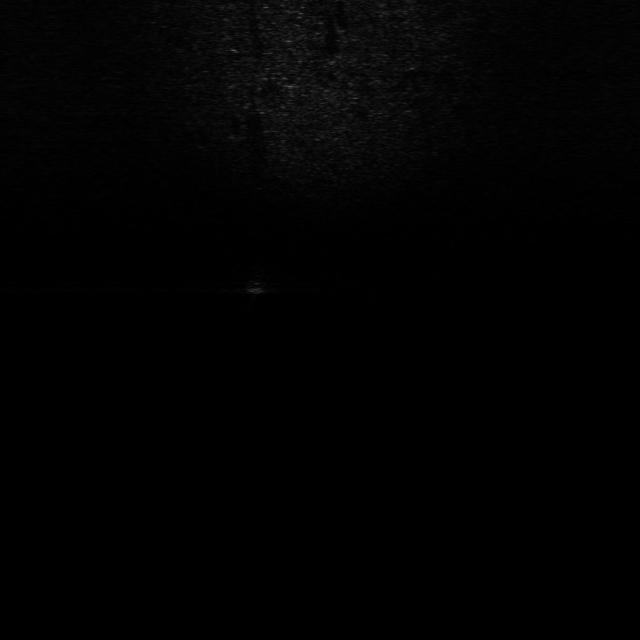human body: (243, 263, 269, 309)
